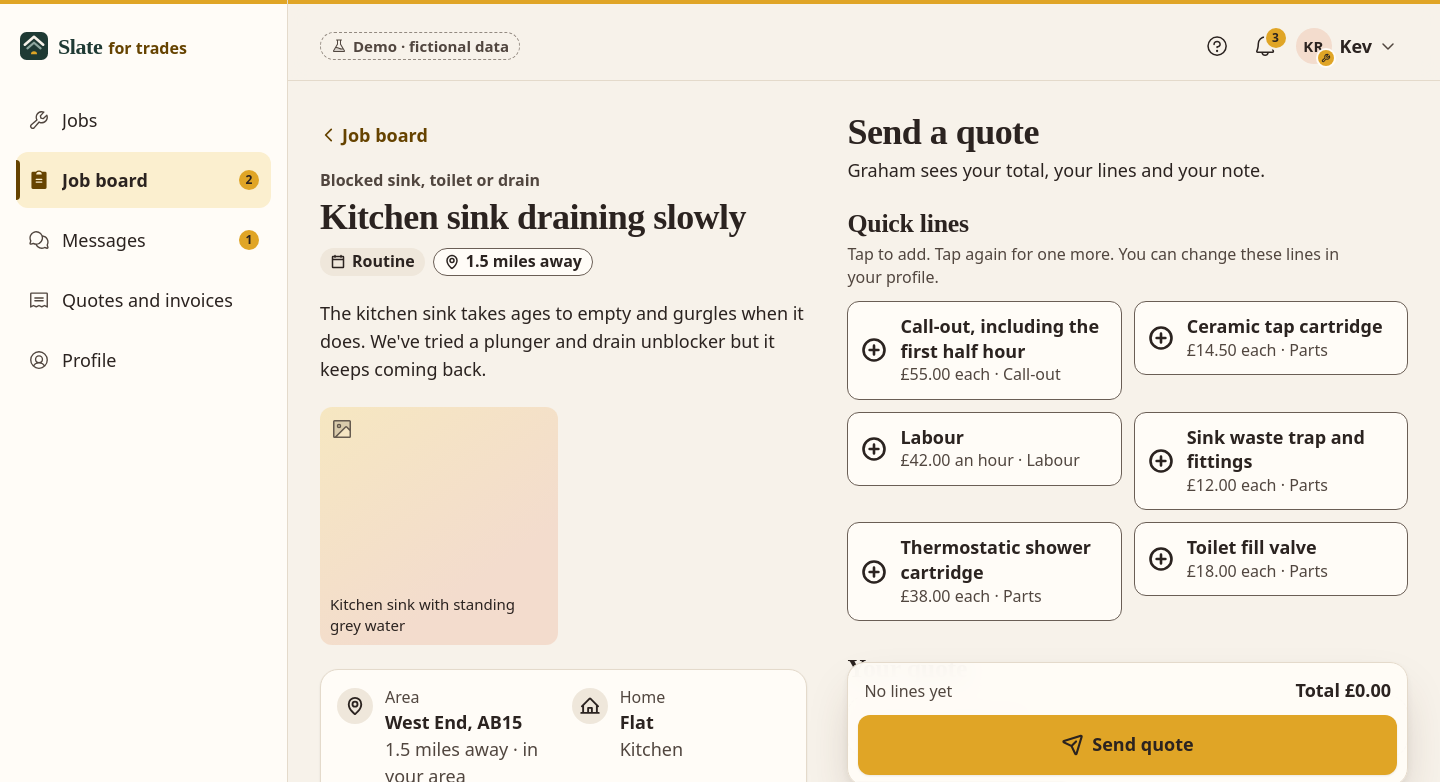
Scenario: the job board › adds VAT when the trade is VAT registered
Check: the heading "Kitchen sink draining slowly" is shown, box [320,198,807,238]
Click the button "Call-out, including the first half hour". click: click(985, 350)
box: [847,301,1122,400]
(page scrolled)
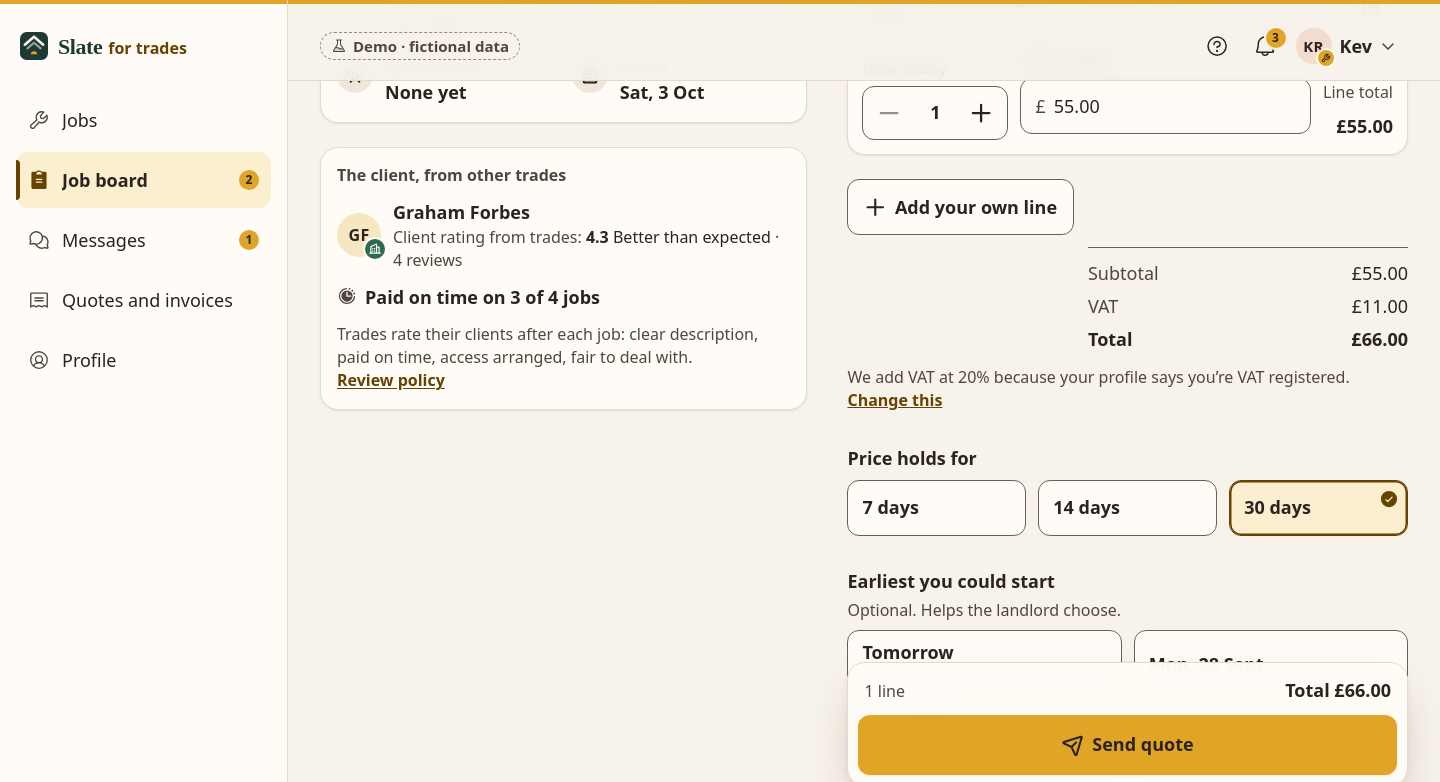
Check: the text "We add VAT at 20%" is shown, box [847,366,1350,388]
Check: the text "Total £66.00" is shown, box [1285,677,1391,705]
